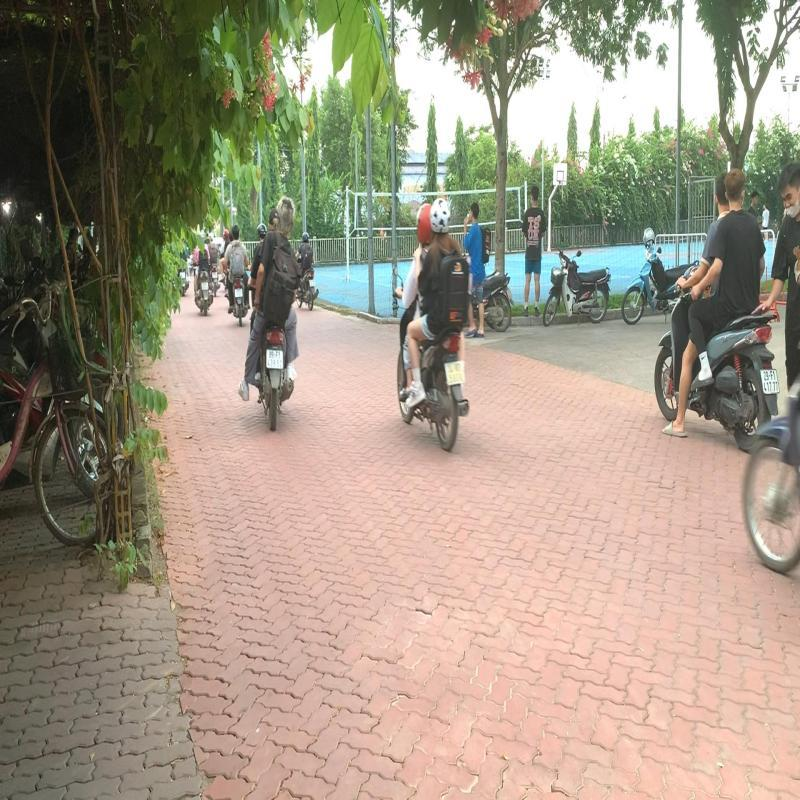nohelmet: (275, 192, 298, 233)
